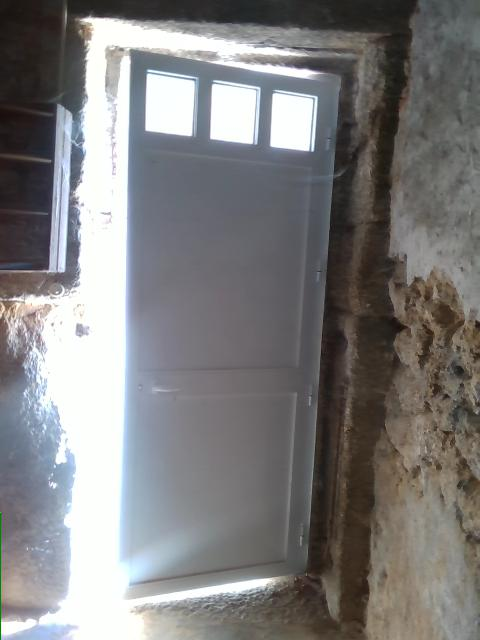door: (115, 47, 340, 601)
